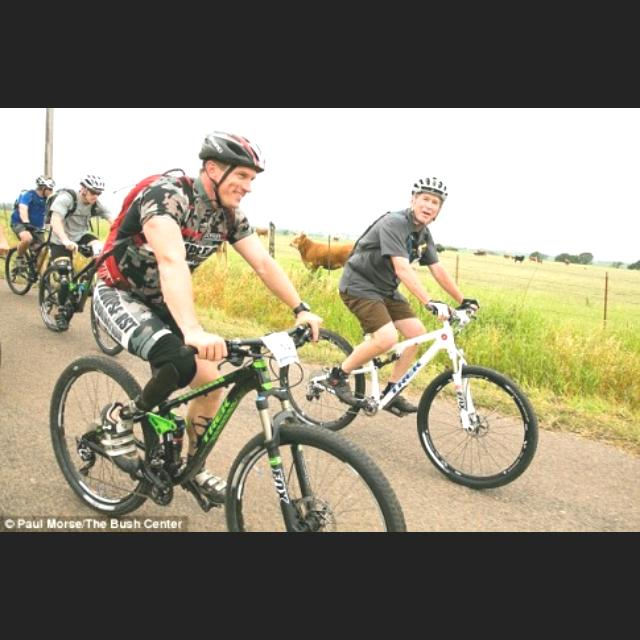With Helmet: (194, 120, 268, 214), (411, 172, 449, 226)
